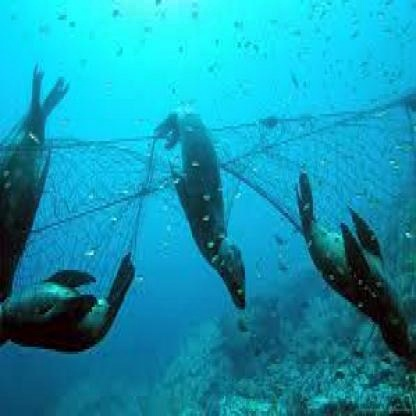net: (213, 89, 416, 245), (13, 124, 174, 282)
